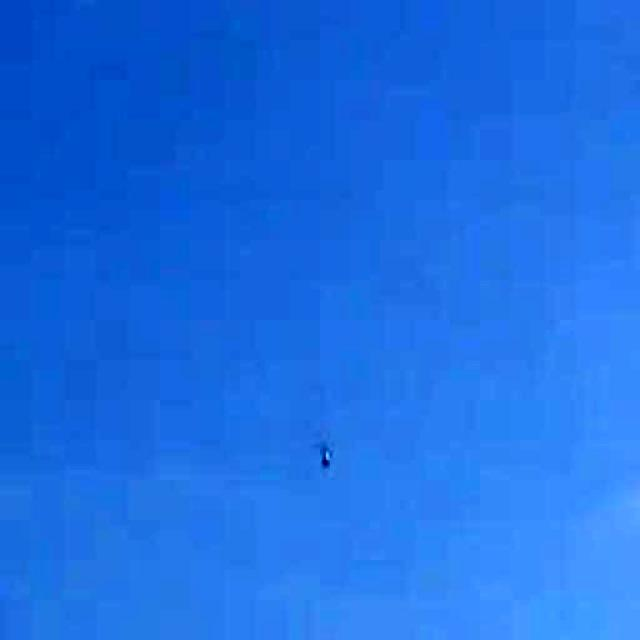drone: (290, 406, 358, 494)
